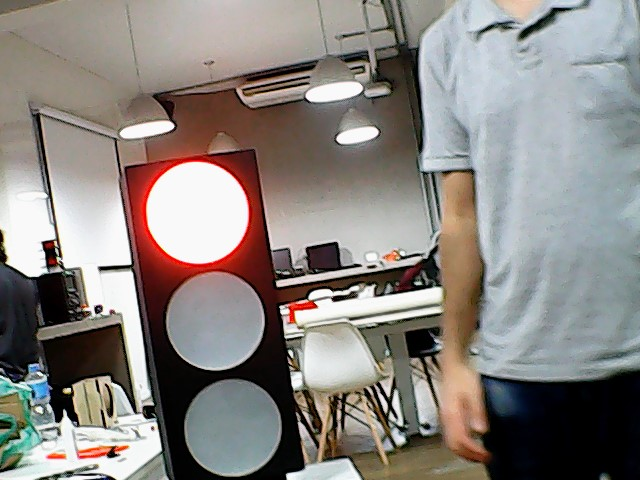vermelho: (100, 146, 313, 476)
